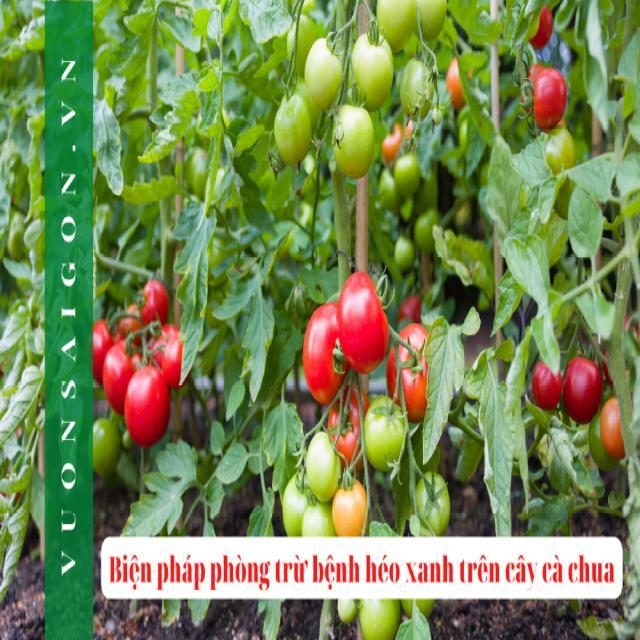kirmizi: (294, 276, 442, 406), (88, 296, 180, 420)
yesil: (226, 50, 430, 182)
